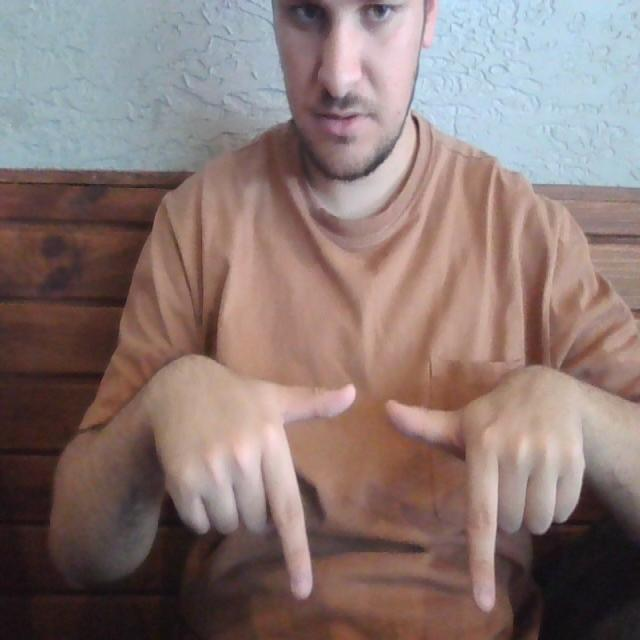Nerede: (256, 378, 504, 618)
